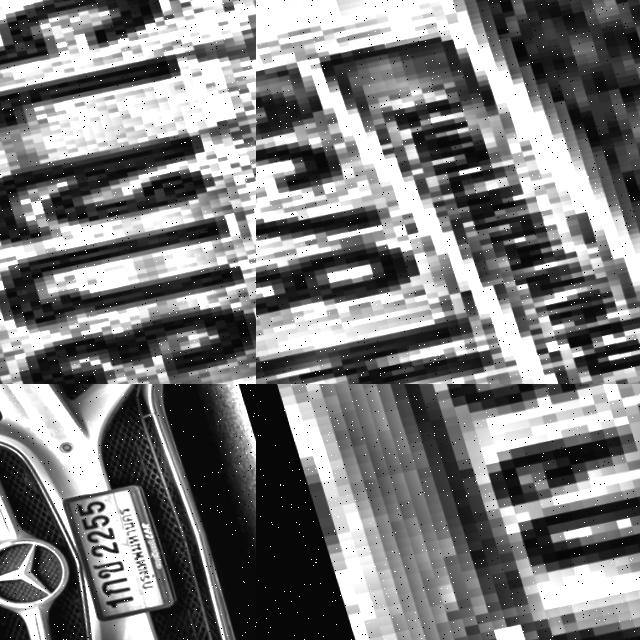license-plate: (256, 0, 640, 384), (0, 0, 256, 384), (266, 384, 640, 640), (54, 475, 172, 623)
